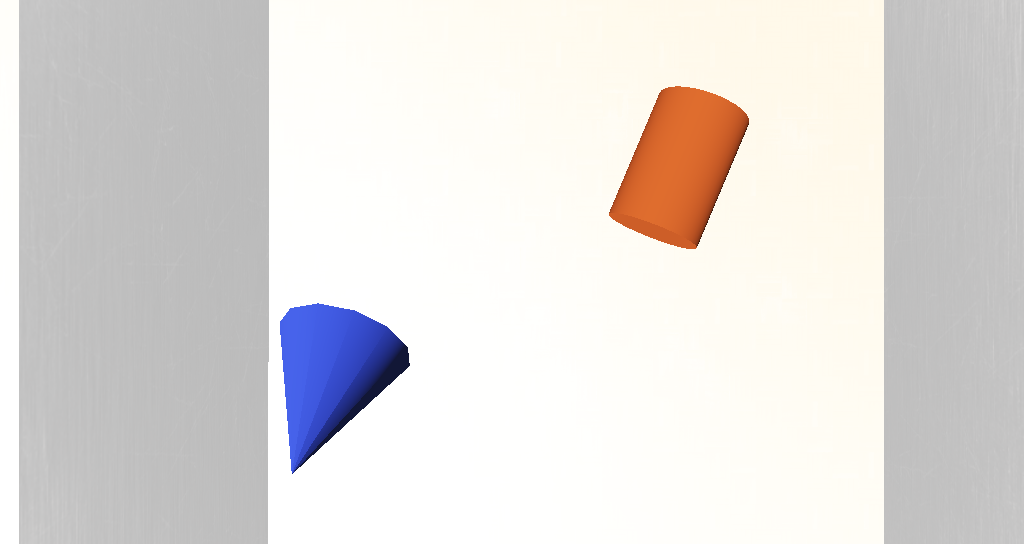cone: (519, 208, 586, 260)
cylinder: (333, 274, 435, 356)
sphere: (364, 224, 512, 329)
